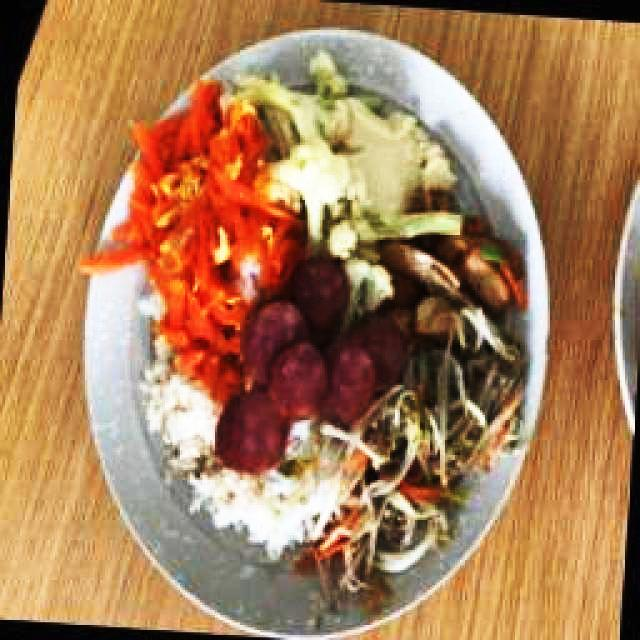carrot_eggs: (144, 144, 242, 398)
chinese_sausage: (214, 256, 399, 468)
mung_bean_sprouts: (406, 332, 516, 471)
